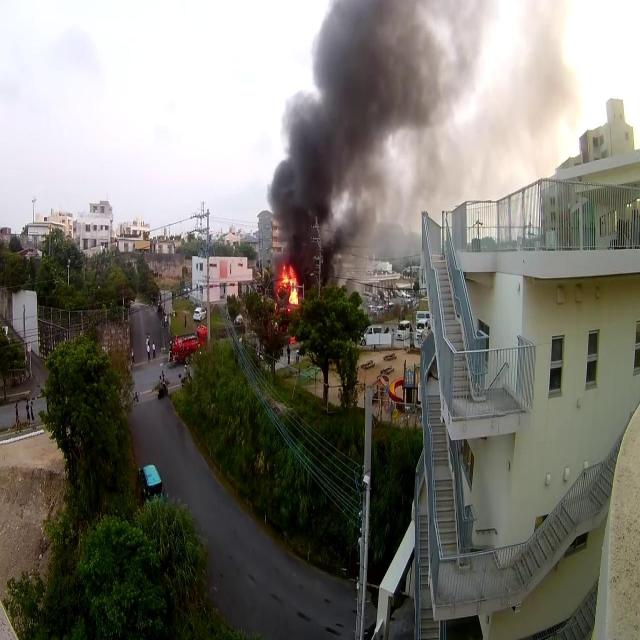Fire: (277, 267, 299, 304)
